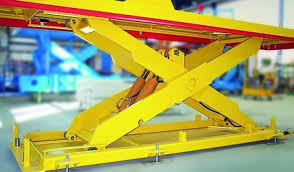Scissor Lift: (1, 1, 294, 169)
